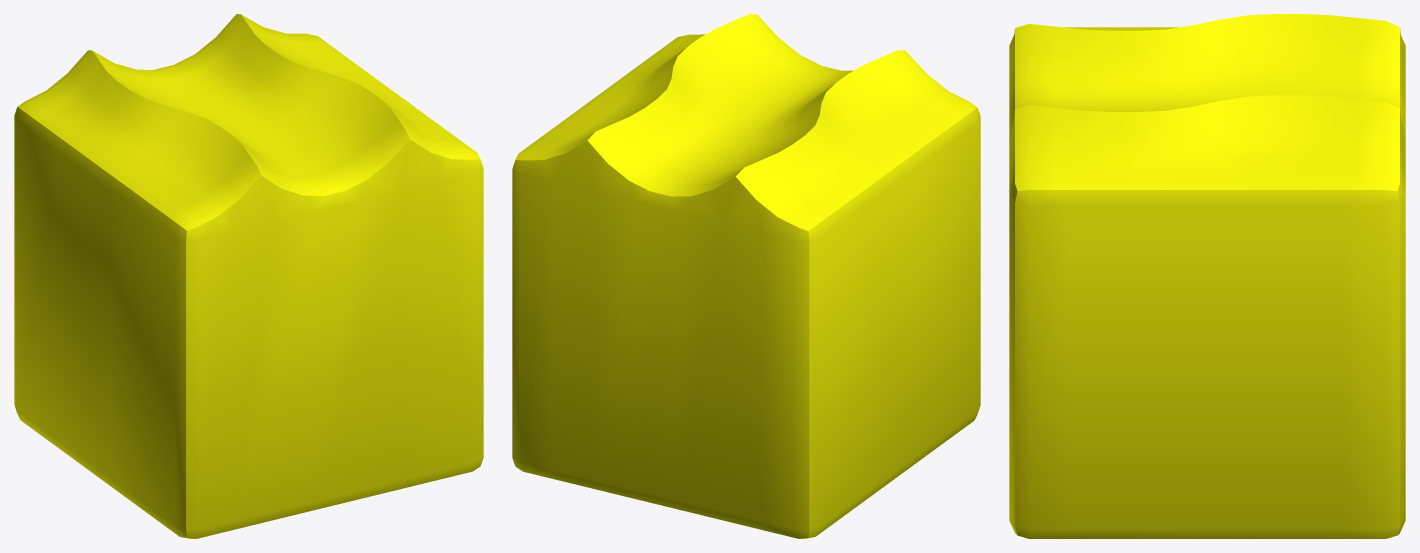
Rendered from kaykit-water.glb.
The picture shows the model from 3 angles, left to right: view 1: azimuth 30°, elevation 25°; view 2: azimuth 150°, elevation 25°; view 3: azimuth 270°, elevation 25°; orthographic projection. The views are drawn at different scales.
Parts seen in each view (by area): view 1: water; view 2: water; view 3: water.
Boxes of the visible parts, x1,y1,x2,y2 form: water: [14, 14, 483, 538]; water: [512, 14, 980, 538]; water: [1009, 14, 1405, 538].
Bounding box in the file's own units: 2 × 2.23 × 2.
